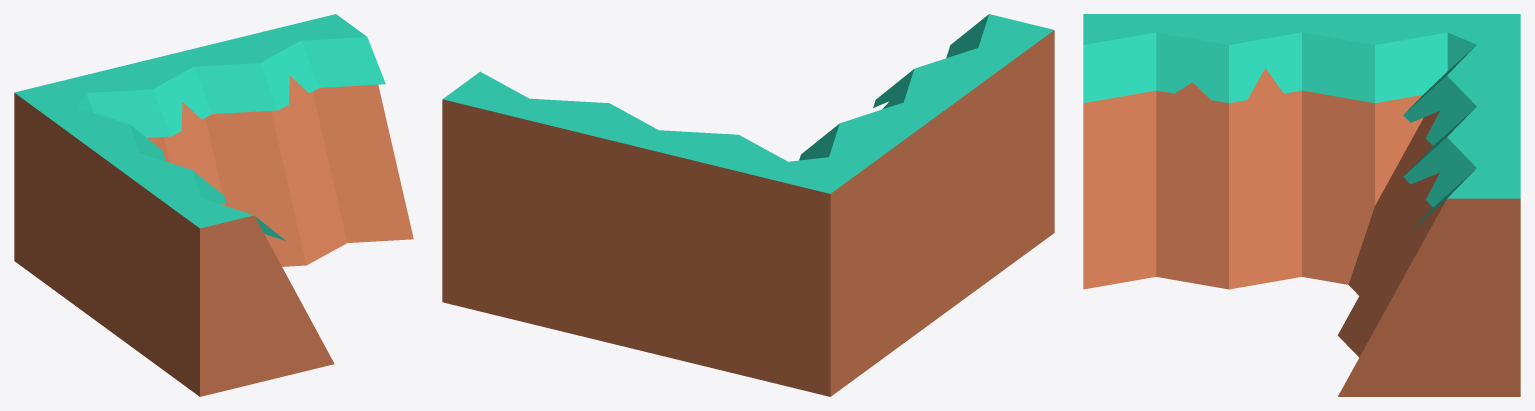
The model's file is cliff_halfCornerInner_rock.dae.
3 renders of one model, left to right at view 1: azimuth 30°, elevation 25°; view 2: azimuth 150°, elevation 25°; view 3: azimuth 270°, elevation 25°, orthographic. The views are drawn at different scales.
Parts seen in each view (by area): view 1: cliff_halfCornerInner_rock; view 2: cliff_halfCornerInner_rock; view 3: cliff_halfCornerInner_rock.
Part boxes in pixels (x1,y1,x2,y2): cliff_halfCornerInner_rock: (14,14,413,396); cliff_halfCornerInner_rock: (442,14,1054,396); cliff_halfCornerInner_rock: (1083,14,1520,396).
Bounding box in the file's own units: 1 × 0.5 × 1.
